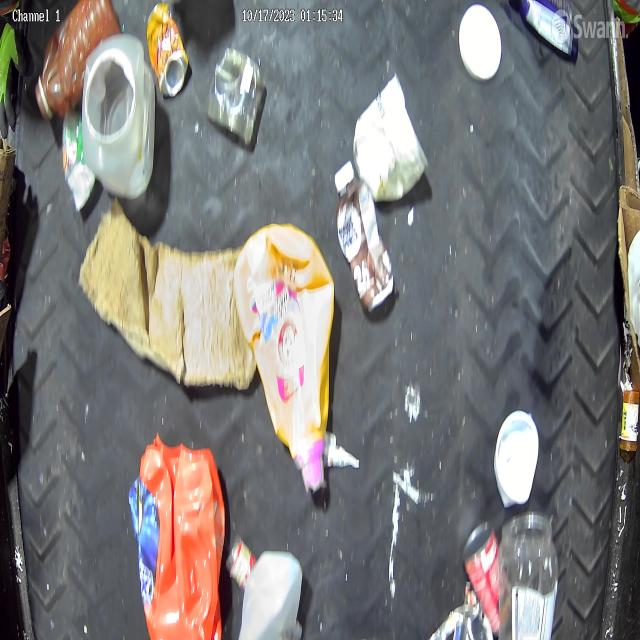can: (208, 46, 265, 146), (463, 517, 509, 633), (146, 3, 190, 100)
milk_jug: (237, 550, 303, 640)
non_white_jug: (232, 222, 337, 491), (142, 447, 224, 638), (335, 172, 393, 312)
plastic_bottle: (36, 1, 112, 116)
